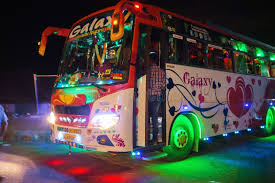bus: (36, 1, 275, 161)
